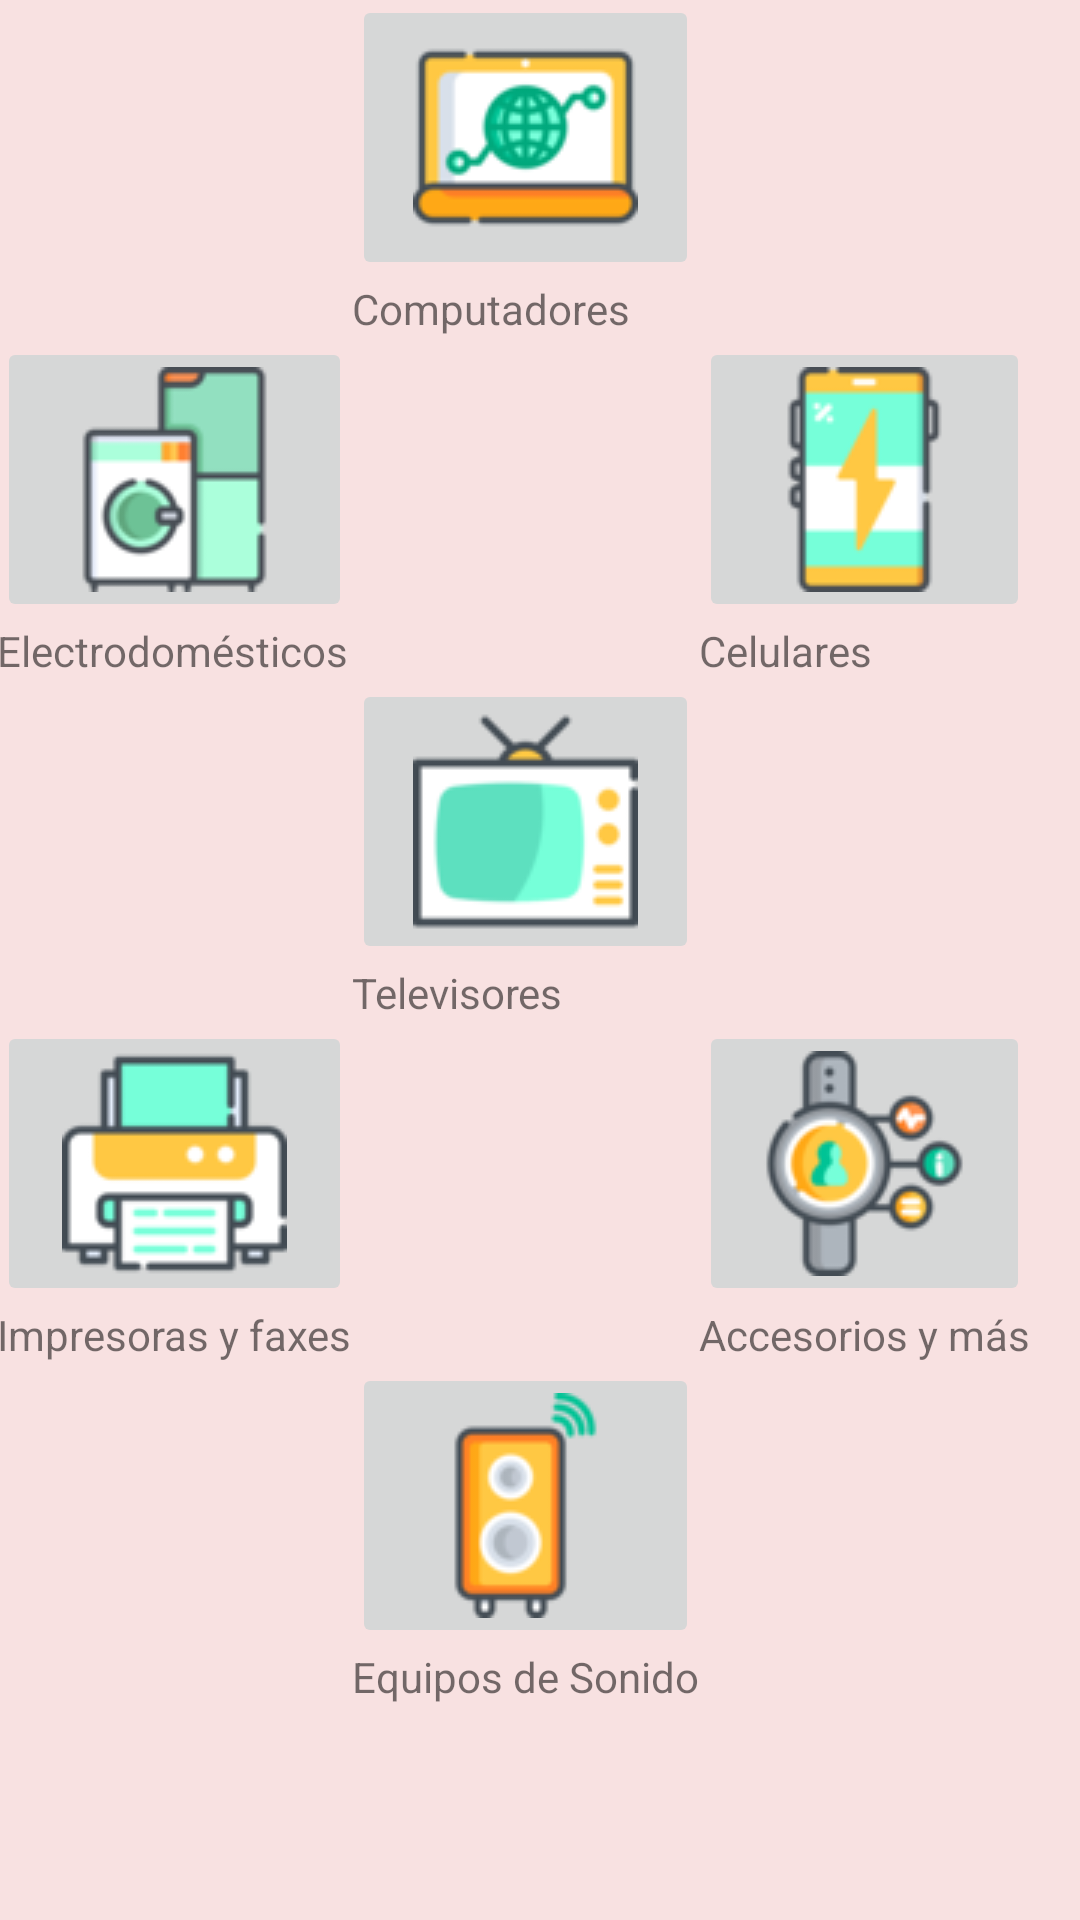

Icons on this 1080×1920 Android screen, each with its box as (x1, y1, x2, y2):
altavoz: (364, 1381, 687, 1630)
carga: (711, 355, 1018, 604)
reloj: (711, 1039, 1018, 1288)
